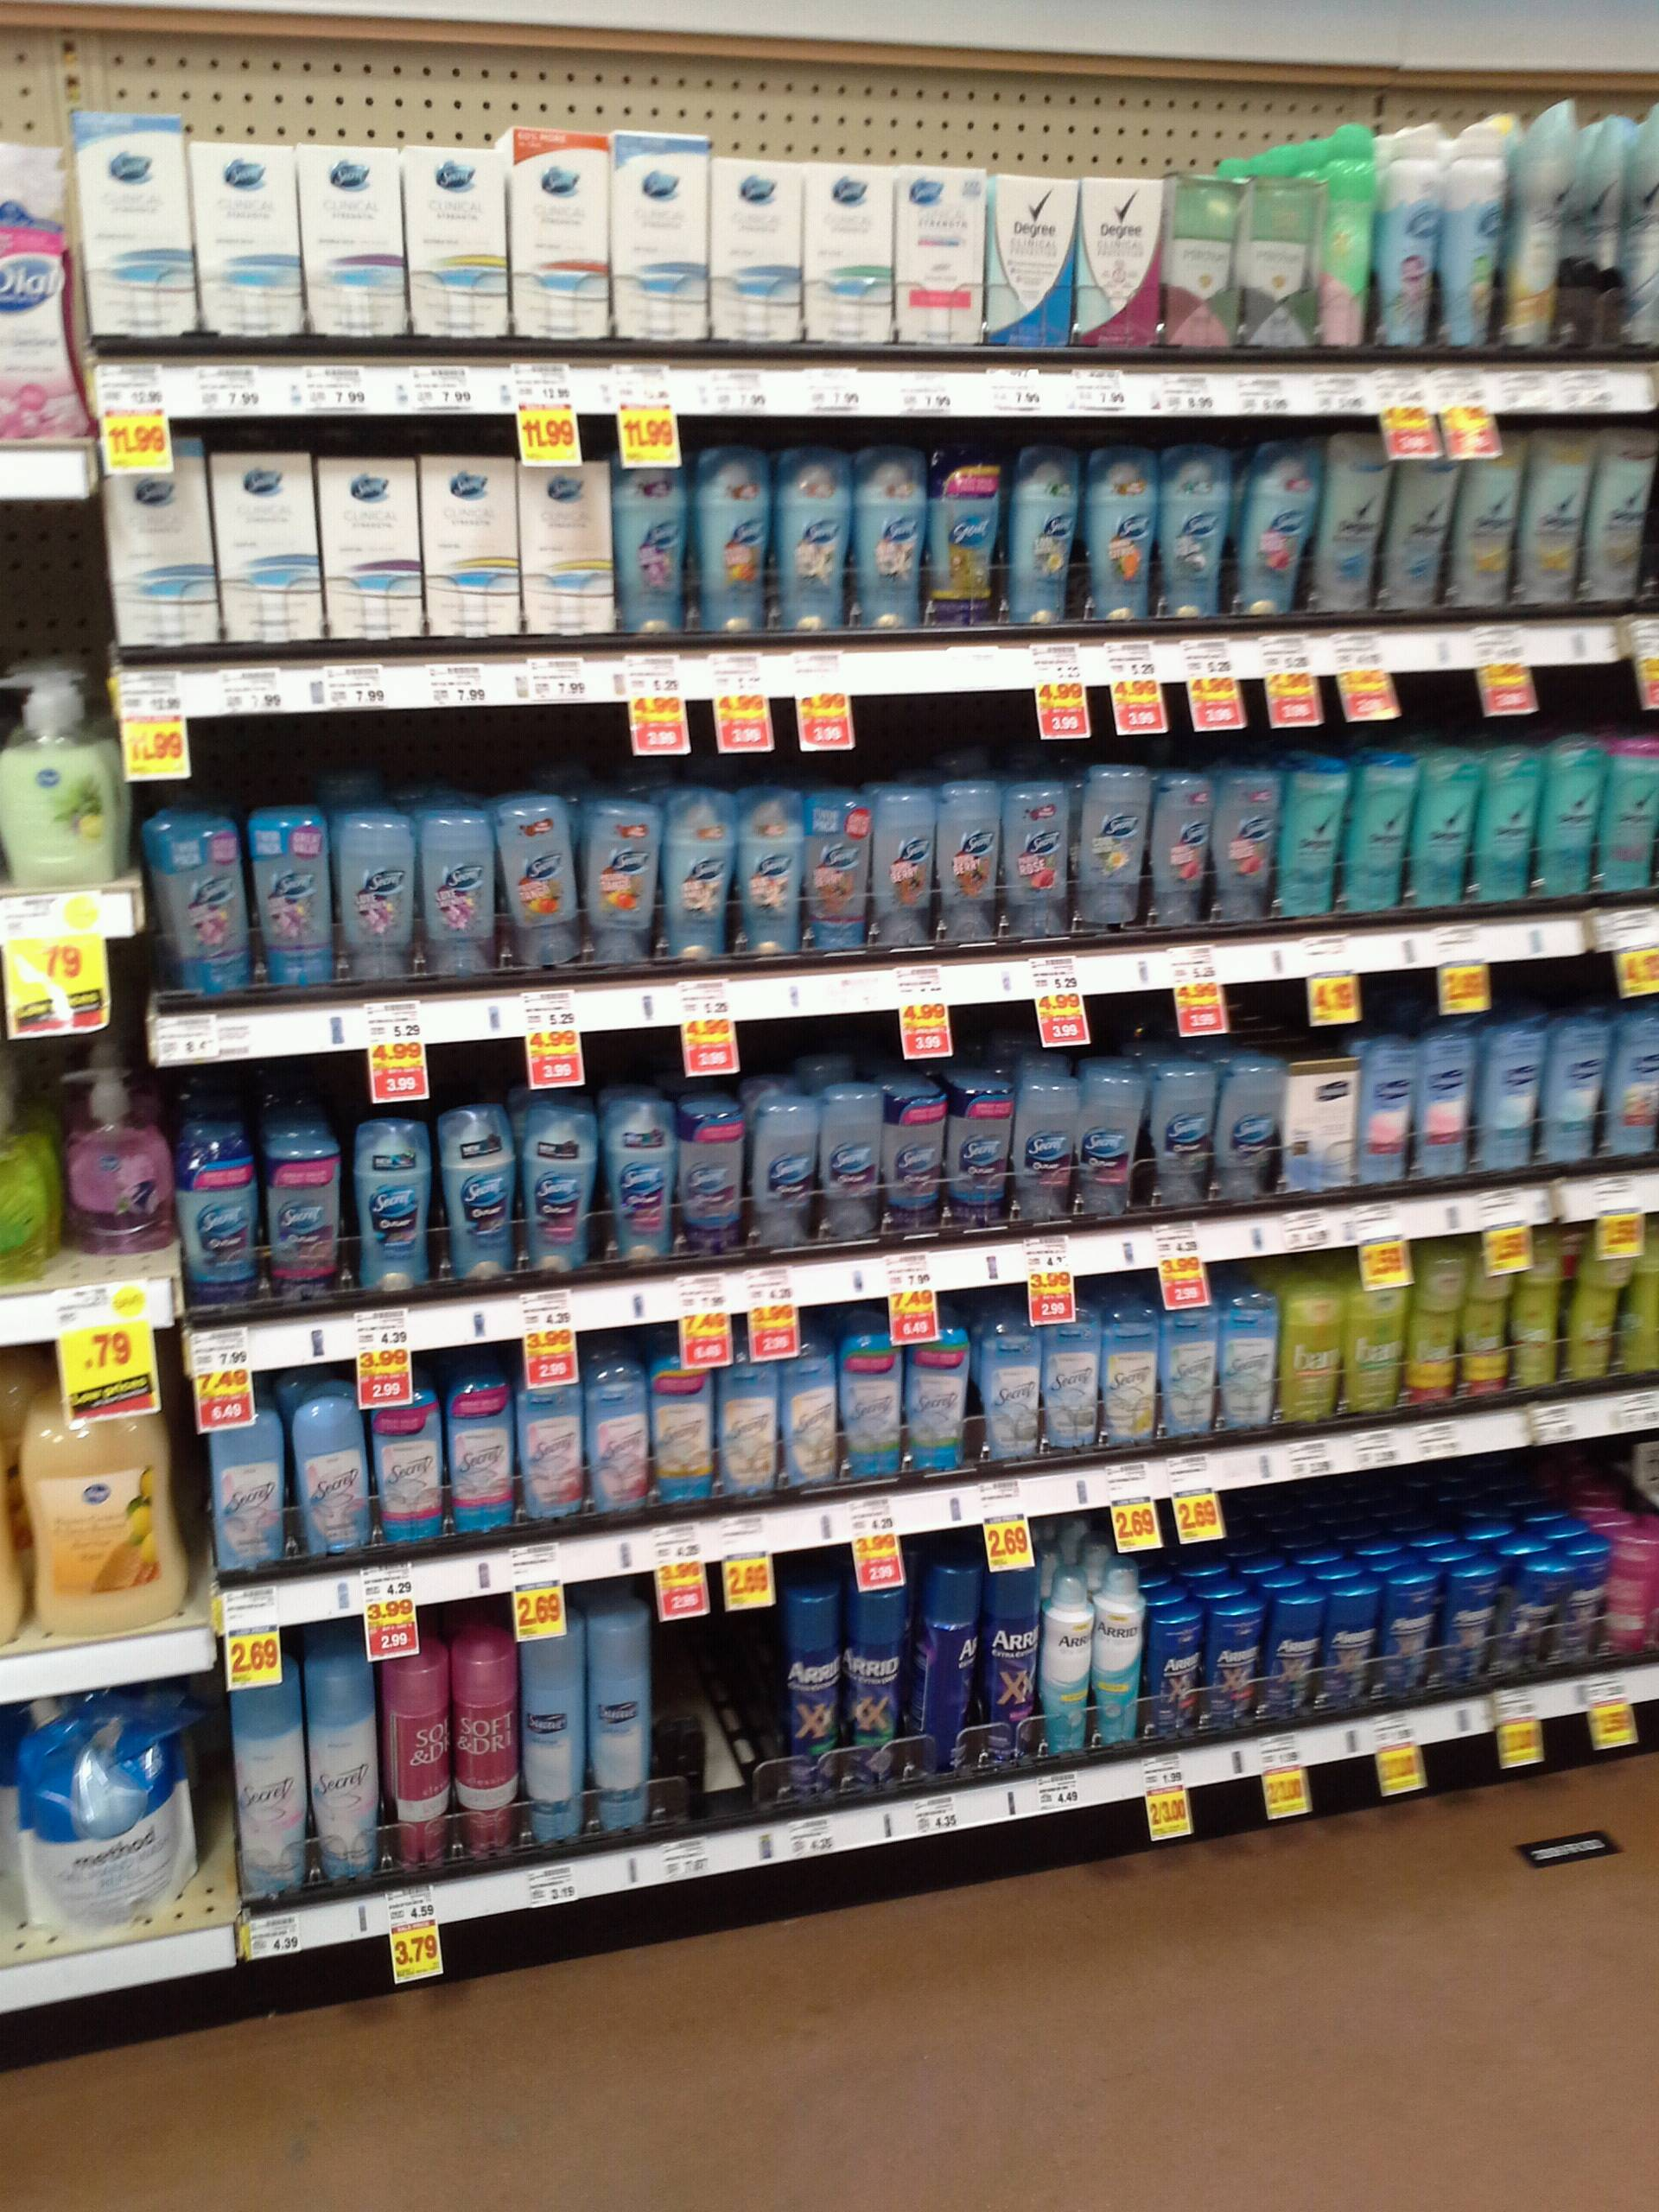product: (2, 1689, 197, 1937), (12, 1359, 186, 1635), (2, 664, 132, 887), (68, 108, 183, 343), (98, 421, 204, 648), (507, 118, 608, 343), (610, 124, 713, 340), (408, 444, 516, 644), (188, 134, 293, 340), (148, 761, 242, 989), (209, 439, 310, 650), (56, 1062, 167, 1249), (298, 136, 397, 341), (223, 1653, 303, 1907), (1504, 78, 1579, 350), (2, 148, 70, 446), (310, 442, 410, 644), (401, 138, 500, 340), (793, 155, 897, 341), (371, 1627, 451, 1869), (514, 1604, 589, 1858), (681, 437, 769, 637), (518, 448, 608, 639), (249, 772, 326, 986), (985, 165, 1075, 347), (254, 1111, 342, 1299), (924, 437, 1006, 634), (594, 1581, 653, 1851), (1077, 167, 1162, 354), (575, 792, 664, 970), (772, 437, 850, 637), (897, 157, 979, 347), (908, 1548, 976, 1777), (1384, 105, 1448, 345), (429, 1096, 511, 1284), (840, 1543, 901, 1796), (315, 1616, 371, 1892), (716, 152, 795, 341), (1082, 432, 1159, 625), (774, 1569, 836, 1804), (511, 1096, 592, 1273), (340, 792, 413, 991), (1384, 413, 1455, 615), (1303, 427, 1380, 613), (457, 1608, 512, 1864), (1004, 435, 1077, 631), (173, 1116, 249, 1301), (490, 798, 570, 974), (1243, 164, 1316, 350), (981, 1534, 1037, 1775), (1073, 761, 1147, 944), (416, 799, 490, 982), (371, 1371, 444, 1554), (1161, 432, 1232, 618), (615, 441, 681, 641), (214, 1386, 286, 1569), (1584, 425, 1659, 599), (850, 441, 918, 632), (599, 1090, 671, 1270), (1232, 434, 1300, 620), (1173, 165, 1241, 350), (1450, 113, 1502, 352), (355, 1111, 425, 1289), (1006, 1064, 1080, 1228), (289, 1386, 361, 1555), (1516, 421, 1582, 603), (1002, 768, 1072, 939), (1345, 742, 1415, 913), (666, 786, 732, 961), (1328, 122, 1378, 352), (737, 775, 800, 958), (1584, 98, 1626, 369), (519, 1359, 582, 1538), (934, 772, 999, 946), (802, 782, 868, 951), (746, 1089, 814, 1252), (709, 1334, 775, 1501), (645, 1338, 706, 1517), (1457, 416, 1513, 611), (1148, 759, 1209, 937), (1474, 1014, 1544, 1169), (1473, 737, 1537, 904), (451, 1371, 516, 1538), (1213, 761, 1281, 920), (870, 777, 932, 948), (676, 1092, 742, 1252), (1159, 1275, 1220, 1446), (1039, 1291, 1101, 1456), (1218, 1054, 1288, 1202), (584, 1359, 643, 1531), (903, 1325, 971, 1475), (1084, 1064, 1150, 1217), (1039, 1562, 1089, 1763), (816, 1080, 877, 1240), (1595, 742, 1659, 894), (1542, 1014, 1607, 1163), (1405, 1238, 1466, 1395), (1256, 1583, 1321, 1731), (1281, 754, 1340, 914), (880, 1075, 939, 1235), (941, 1076, 1004, 1226), (976, 1306, 1035, 1461), (1222, 1278, 1281, 1432), (1154, 1062, 1218, 1202), (838, 1329, 897, 1480), (1500, 1545, 1563, 1686), (779, 1331, 833, 1493), (1100, 1292, 1157, 1444), (1509, 1221, 1560, 1393), (1143, 1575, 1195, 1740), (1281, 1277, 1338, 1426), (1417, 742, 1469, 906), (1540, 737, 1593, 899), (1628, 94, 1659, 364), (1290, 1055, 1352, 1190), (1340, 1275, 1403, 1407), (1413, 1029, 1471, 1172), (1607, 1005, 1659, 1162), (1093, 1555, 1134, 1750), (1382, 1566, 1438, 1709), (1358, 1031, 1408, 1188), (1438, 1562, 1495, 1695), (1567, 1219, 1615, 1374), (1617, 1205, 1659, 1374), (1324, 1583, 1375, 1716), (1202, 1592, 1249, 1731), (1466, 1238, 1507, 1395), (1570, 1540, 1615, 1672), (1622, 1521, 1659, 1674)
